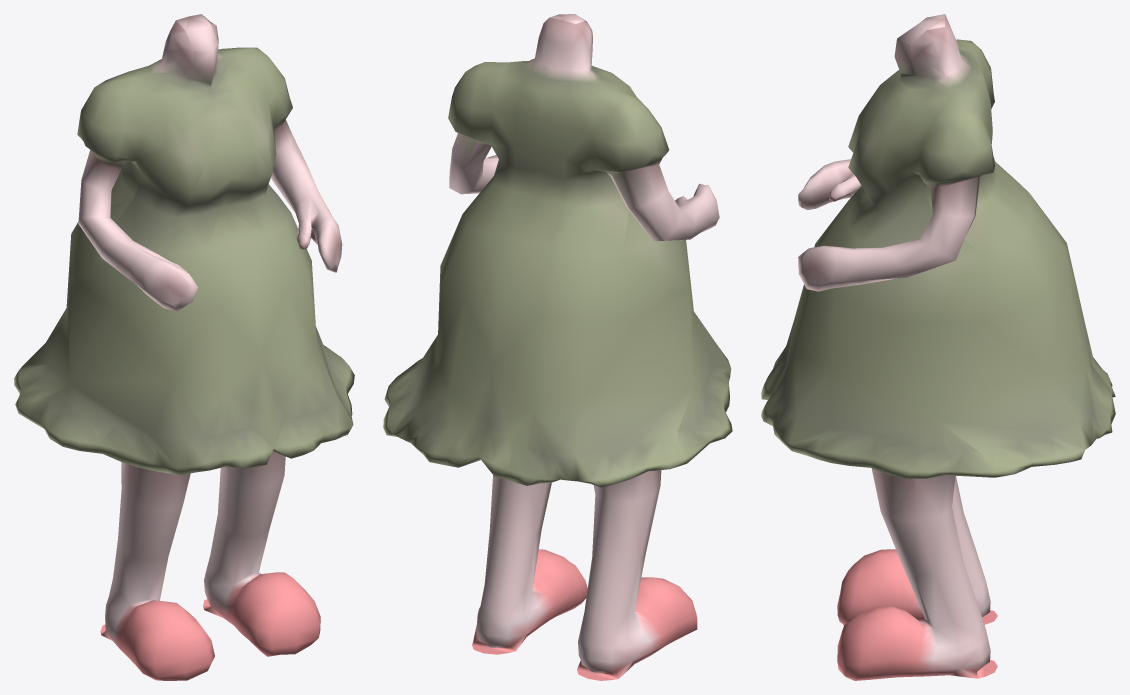
Rendered from grannybody.dae.
3 views of the same model, side by side, from view 1: azimuth 30°, elevation 25°; view 2: azimuth 150°, elevation 25°; view 3: azimuth 270°, elevation 25° (orthographic). The views are drawn at different scales.
Visible parts, largest first — view 1: Polygon-Objekt; view 2: Polygon-Objekt; view 3: Polygon-Objekt.
Boxes of the visible parts, x1,y1,x2,y2 form: Polygon-Objekt: (14,14,354,680); Polygon-Objekt: (383,14,732,680); Polygon-Objekt: (761,14,1115,680).
Bounding box in the file's own units: 589 × 1164 × 598.
Materials: 1 (1 with a texture image).
